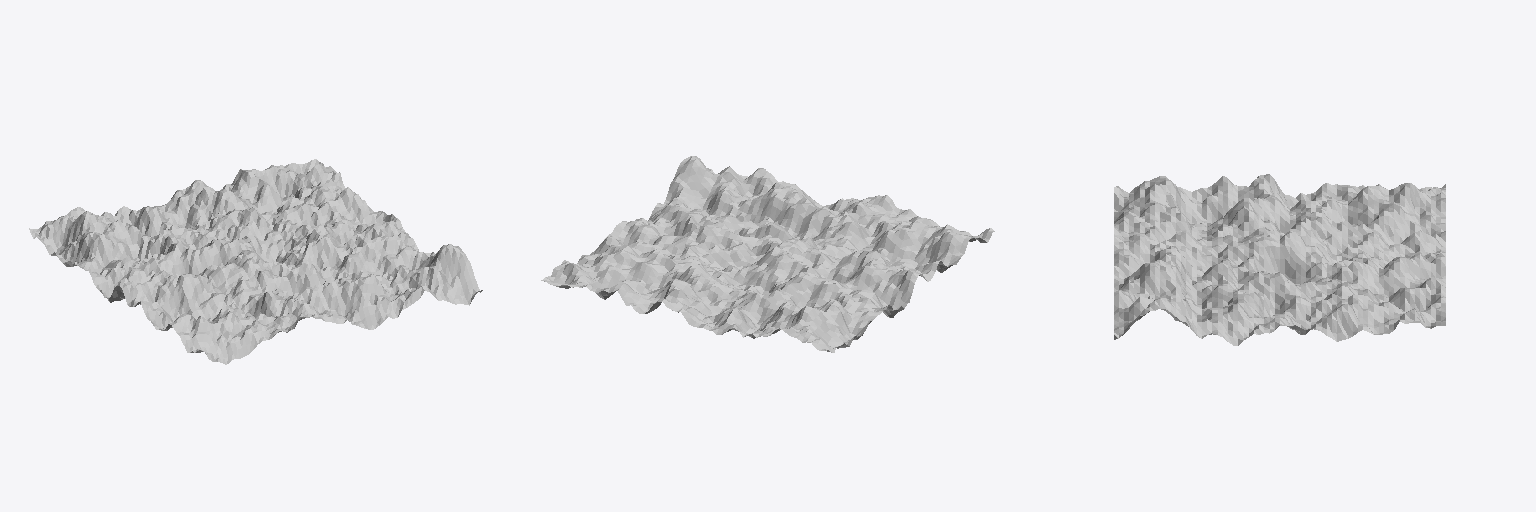
The model's file is mountain_01.obj.
3 renders of one model, left to right at view 1: azimuth 30°, elevation 25°; view 2: azimuth 150°, elevation 25°; view 3: azimuth 270°, elevation 25°, orthographic.
Parts seen in each view (by area): view 1: Cube_Cube.001; view 2: Cube_Cube.001; view 3: Cube_Cube.001.
Boxes of the visible parts, x1,y1,x2,y2 form: Cube_Cube.001: [29, 159, 482, 364]; Cube_Cube.001: [541, 156, 994, 352]; Cube_Cube.001: [1114, 174, 1445, 345].
Size of the model in its own units: 400 by 62.25 by 400.